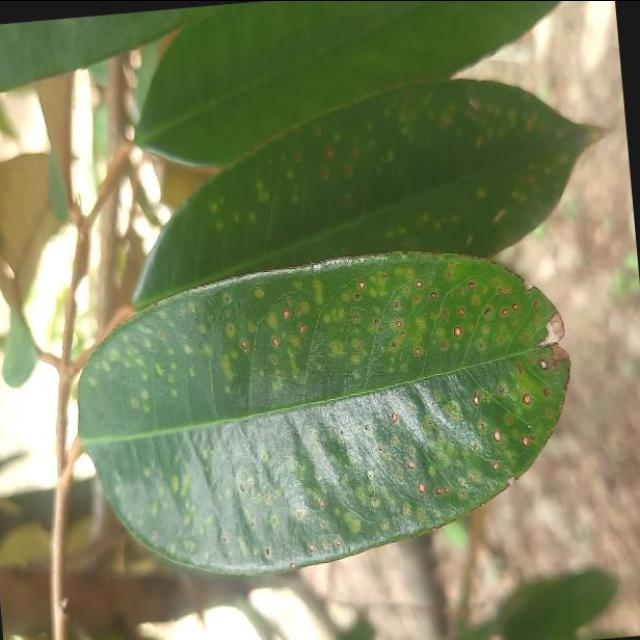Leaf Spot: (58, 234, 592, 596), (120, 64, 636, 312)
